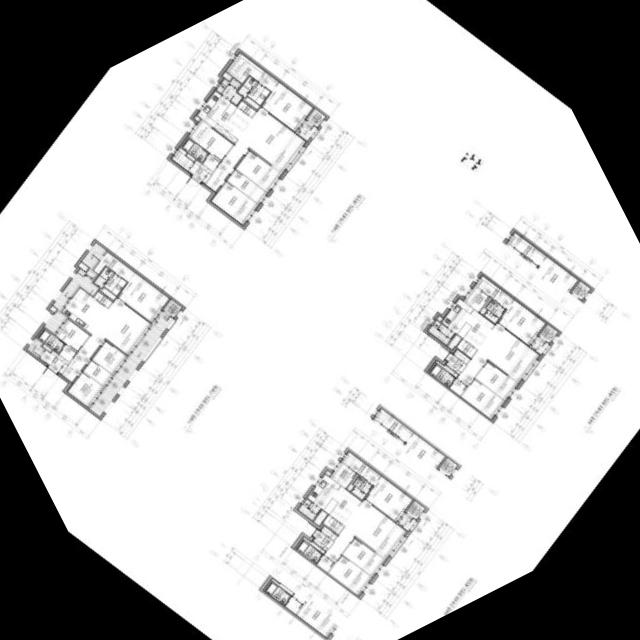background: (0, 0, 640, 640)
space_balconi: (90, 310, 173, 416), (44, 268, 100, 333), (428, 320, 455, 344), (81, 242, 105, 268), (298, 498, 321, 520), (297, 120, 317, 140), (398, 512, 416, 530), (531, 336, 549, 354), (27, 337, 43, 356)
space_bedroom: (258, 71, 313, 131), (363, 467, 412, 521), (118, 272, 169, 322), (211, 180, 258, 225), (236, 150, 281, 191), (188, 120, 233, 160), (328, 554, 371, 595), (461, 378, 504, 418), (342, 537, 384, 576), (475, 361, 517, 399), (67, 371, 103, 407), (92, 340, 126, 374), (55, 319, 89, 351)
space_dressroom: (93, 251, 136, 282), (226, 52, 265, 83), (342, 451, 369, 476), (475, 275, 502, 299)
space_front: (40, 350, 69, 374), (188, 159, 212, 183), (446, 349, 469, 373), (313, 531, 334, 550)
space_kitchen: (197, 90, 253, 143), (307, 474, 361, 525), (441, 298, 494, 349), (62, 287, 109, 333)
space_living_room: (205, 107, 305, 191), (62, 298, 151, 382), (324, 499, 406, 562), (457, 323, 539, 385)
space_other: (496, 291, 545, 345), (227, 169, 267, 203), (83, 359, 112, 386), (330, 461, 356, 488), (464, 285, 489, 311), (171, 147, 193, 170), (323, 514, 343, 534), (303, 536, 325, 553), (456, 339, 476, 357), (436, 360, 458, 376), (203, 153, 220, 171), (317, 555, 334, 572), (450, 378, 467, 395), (59, 344, 76, 361), (237, 100, 255, 116), (94, 291, 112, 307), (321, 525, 337, 540), (313, 510, 327, 525), (243, 96, 259, 109), (99, 287, 116, 299), (448, 334, 461, 349), (480, 297, 491, 314), (347, 474, 358, 490), (78, 261, 88, 271), (222, 71, 232, 80), (42, 343, 52, 351), (186, 153, 195, 161), (49, 305, 56, 312), (194, 115, 200, 121), (325, 470, 331, 475), (437, 316, 442, 321)
space_outdoor_room: (406, 500, 425, 519), (539, 324, 558, 343), (307, 108, 325, 127), (163, 299, 182, 317)
space_toilet: (94, 266, 126, 295), (238, 76, 270, 104), (216, 77, 243, 105), (182, 138, 208, 162), (38, 328, 64, 352), (430, 363, 455, 386), (297, 540, 322, 563), (351, 475, 372, 499), (484, 299, 505, 322)
